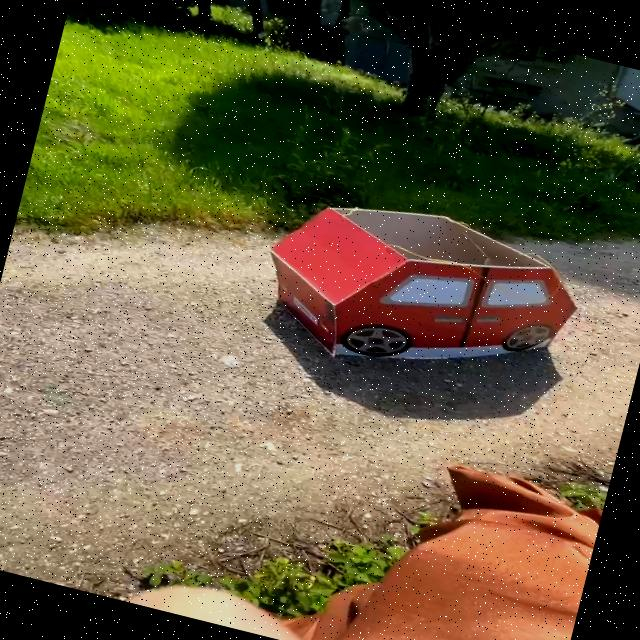red_car: (236, 168, 633, 429)
